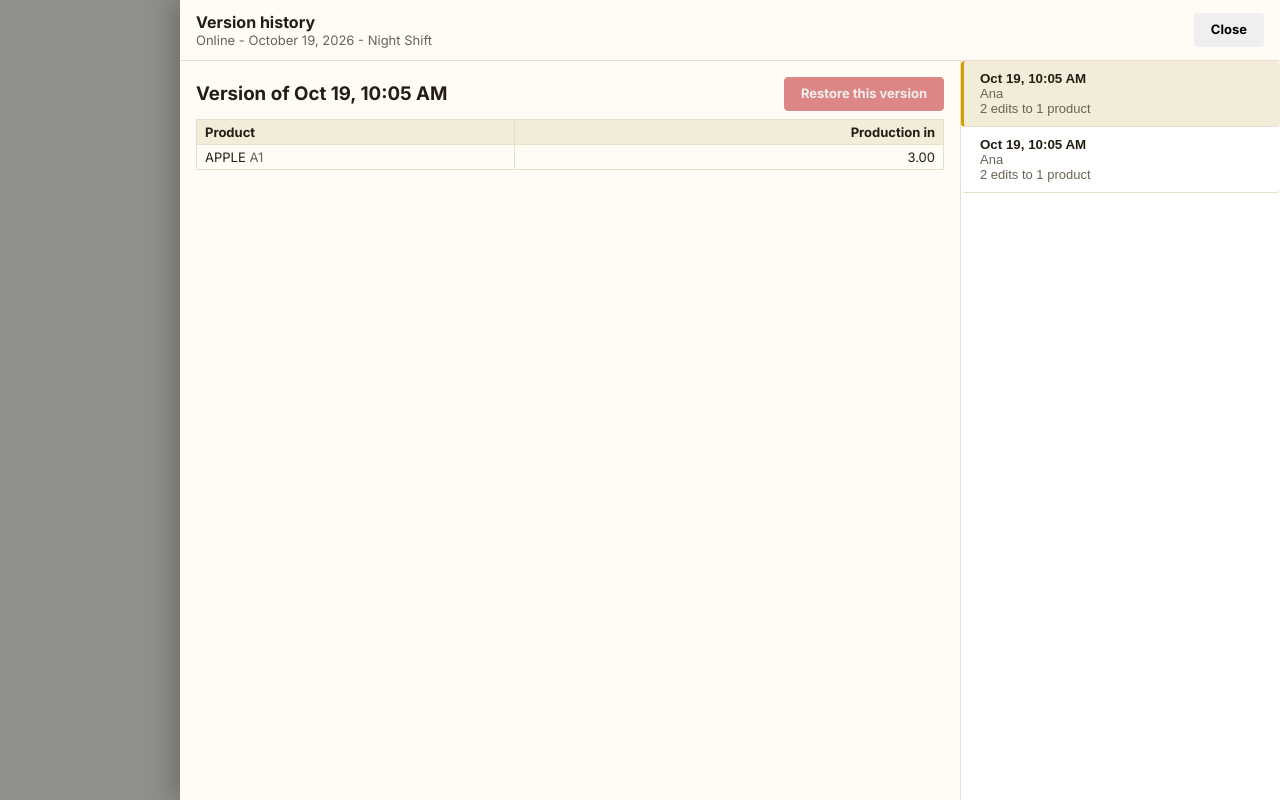
Test case: VersionHistoryPanel restore › shows the server's reason when the restore fails
Click the 2nd button "Oct 19, 10:05 AM Ana 2 edits to 1 product" at (1033, 144), box [961,127,1279,193]
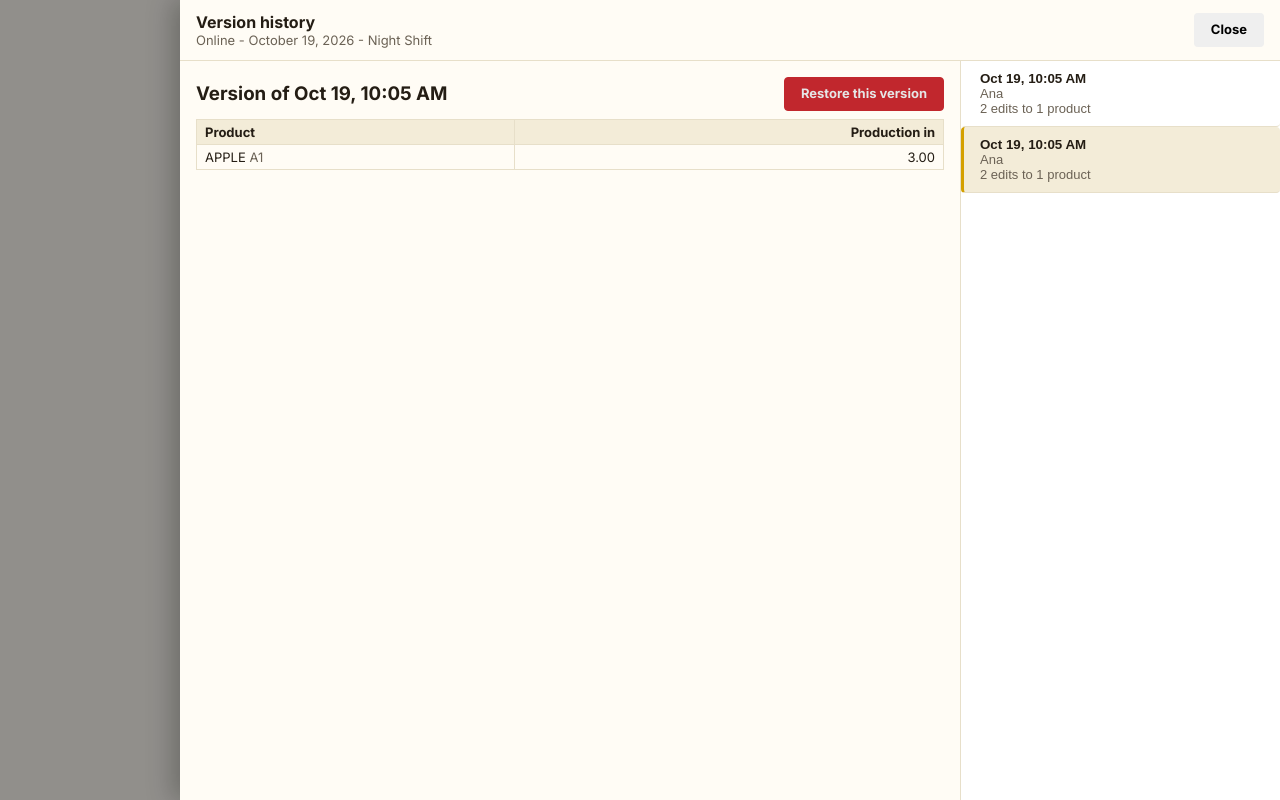
Expected: the text "APPLE" is shown, [205,149,246,165]
Expected: the button "Restore this version" is enabled
Click the button "Restore this version" at (864, 94), box [784,77,944,111]
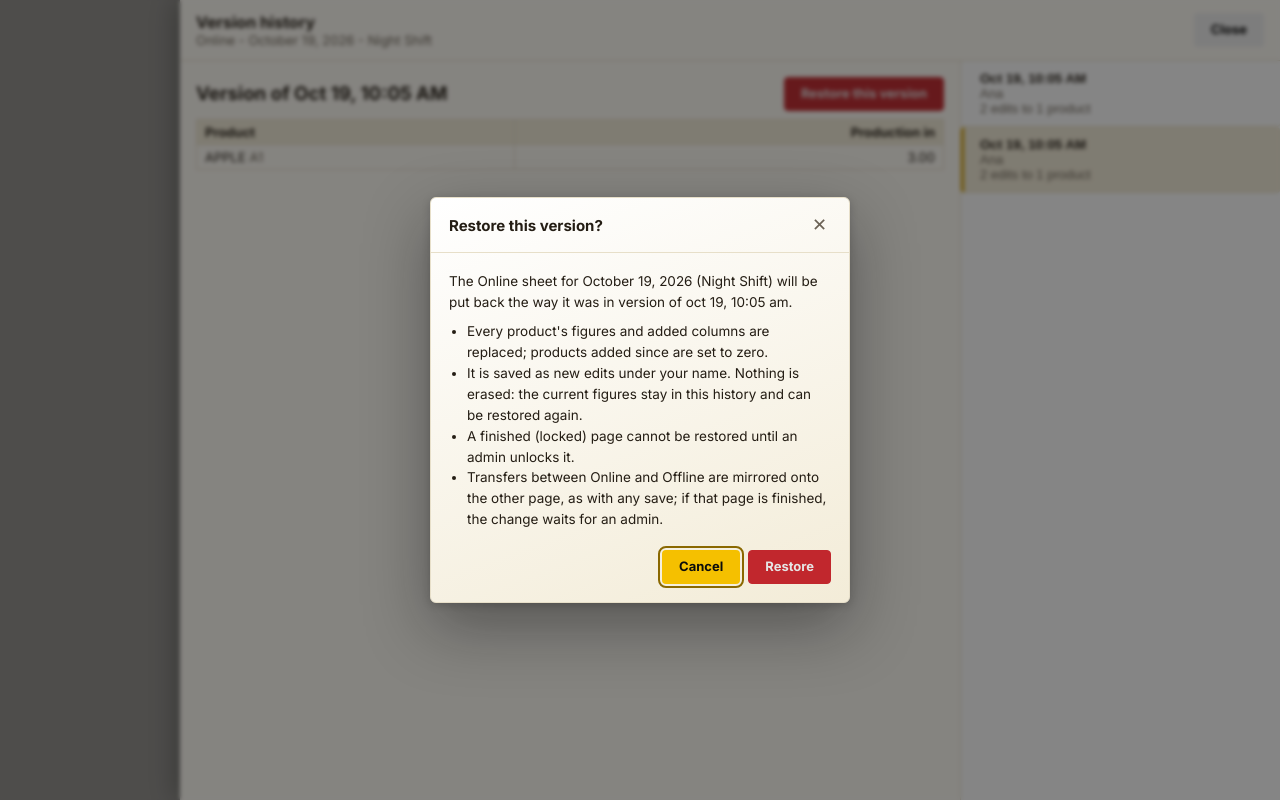
Click the button "Restore" at (790, 567), box [748,550,831,584]
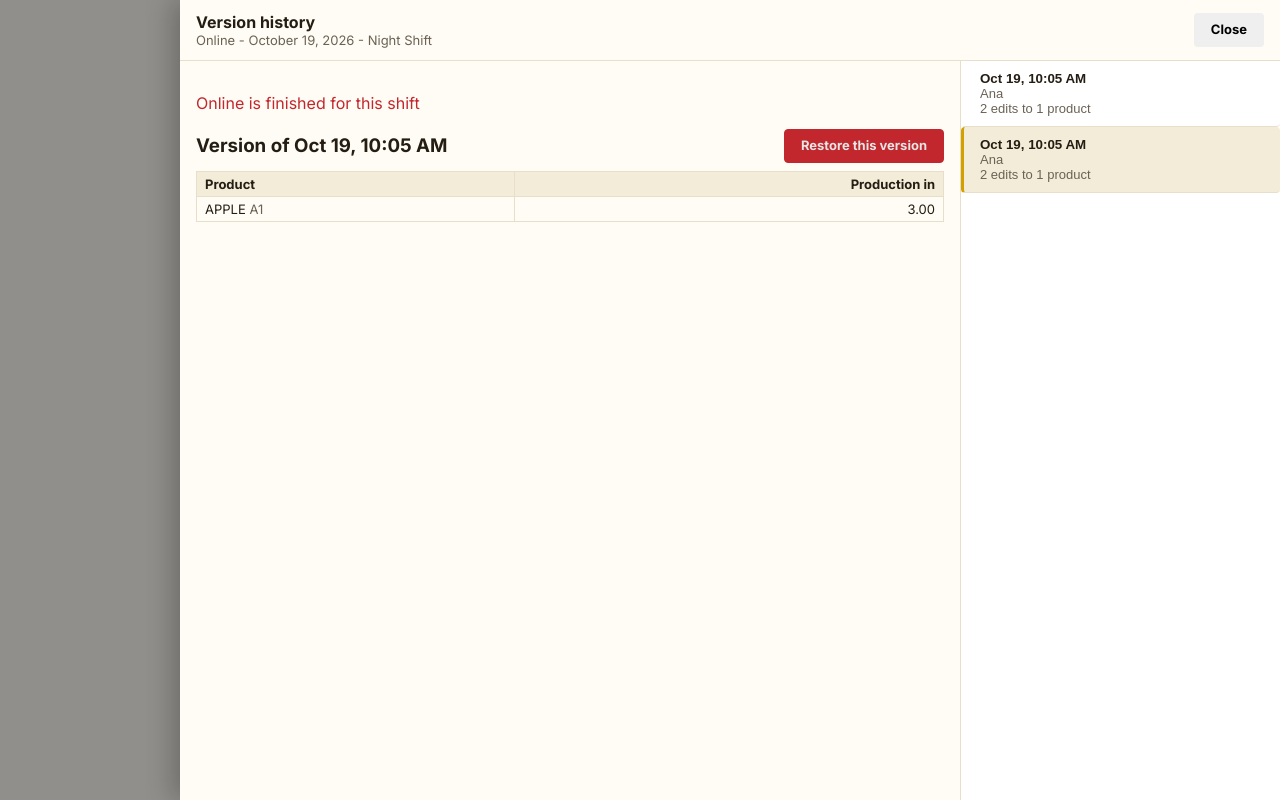
Expected: the text "Online is finished for this shift" is shown, [196,93,420,113]
